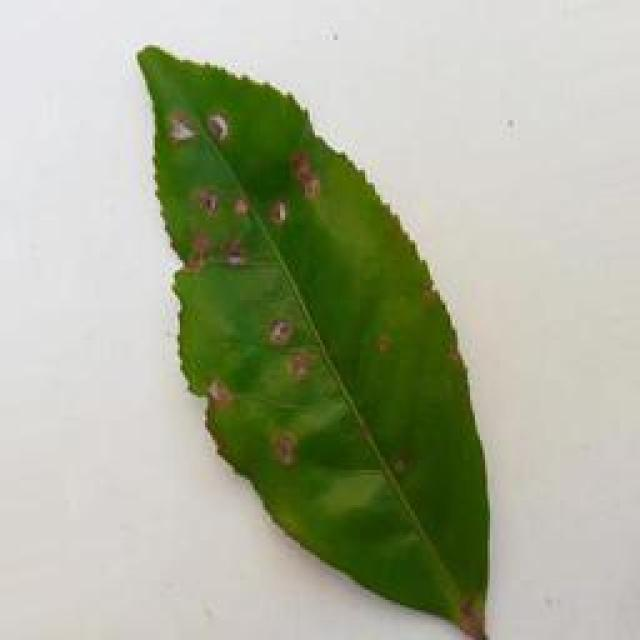Helopeltis: (130, 32, 500, 640)
